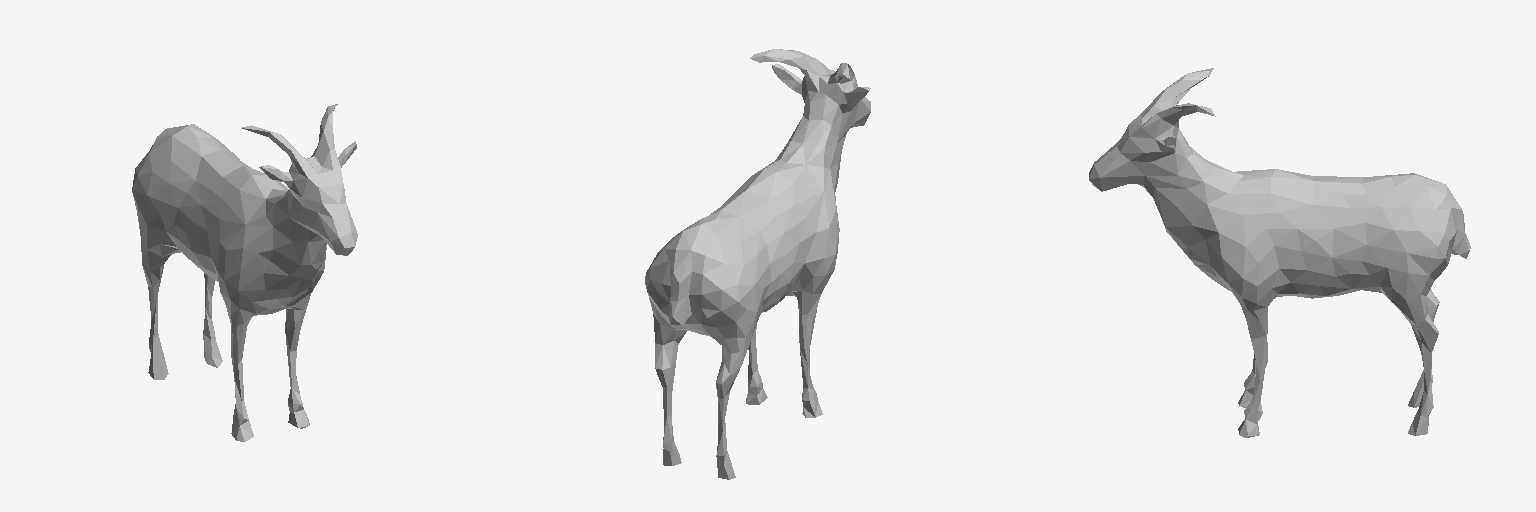
File: chivo.obj
The picture shows the model from 3 angles: view 1: azimuth 30°, elevation 25°; view 2: azimuth 150°, elevation 25°; view 3: azimuth 270°, elevation 25°; orthographic projection.
Visible parts, largest first — view 1: Goat_Low_Poly; view 2: Goat_Low_Poly; view 3: Goat_Low_Poly.
Boxes of the visible parts, box(x1,y1,x2,y2) form: Goat_Low_Poly: box(132, 104, 357, 441); Goat_Low_Poly: box(645, 49, 870, 479); Goat_Low_Poly: box(1089, 68, 1470, 437).
Size of the model in its own units: 0.2878 by 0.9265 by 0.9567.